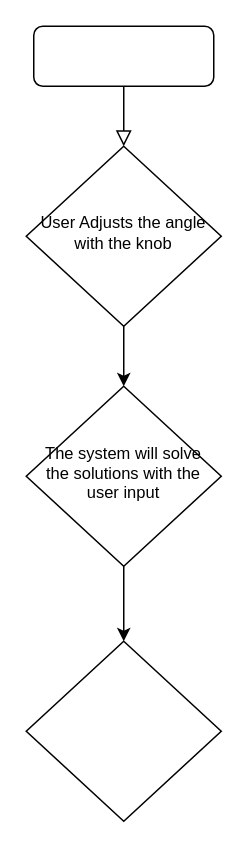
This 248x848 diagram has some shape labels left out. Each missing label, with the box of its shape:
Start: (32, 25, 214, 86)
The Calculations will be displayed in the two LCD's: (25, 640, 221, 821)
